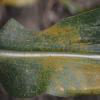Corn rust leaf: (1, 14, 99, 98)
